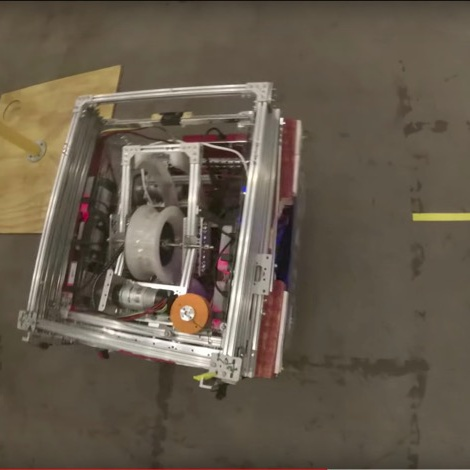robot: (15, 76, 312, 406)
